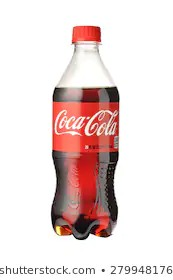coke-bottle-700ml: (47, 24, 123, 243)
